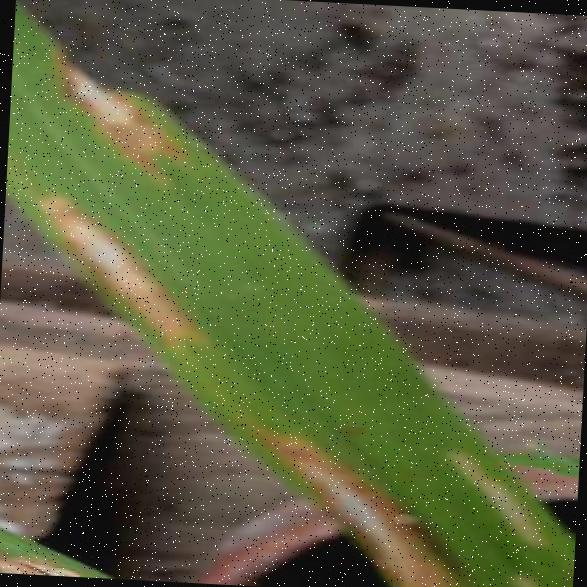Leaf_smut: (12, 172, 223, 368), (247, 409, 477, 587), (35, 15, 206, 174)
